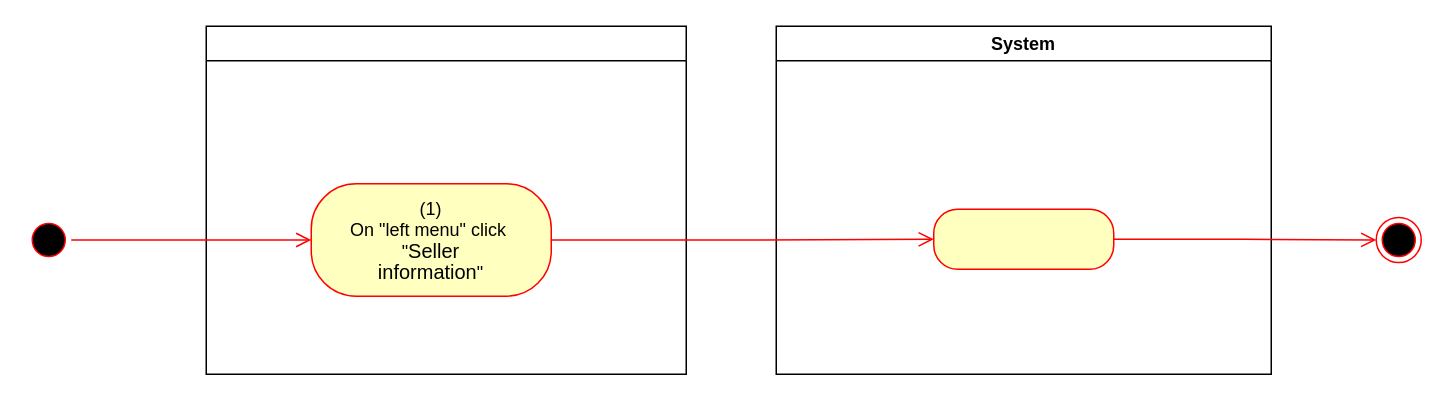
Some shapes in this 1448 by 401 pixel diagram are drawn without their labels. Each missing label, with the box of its shape:
(2) Load " Viewing Screen": (932, 208, 1114, 269)
User: (205, 25, 686, 374)
